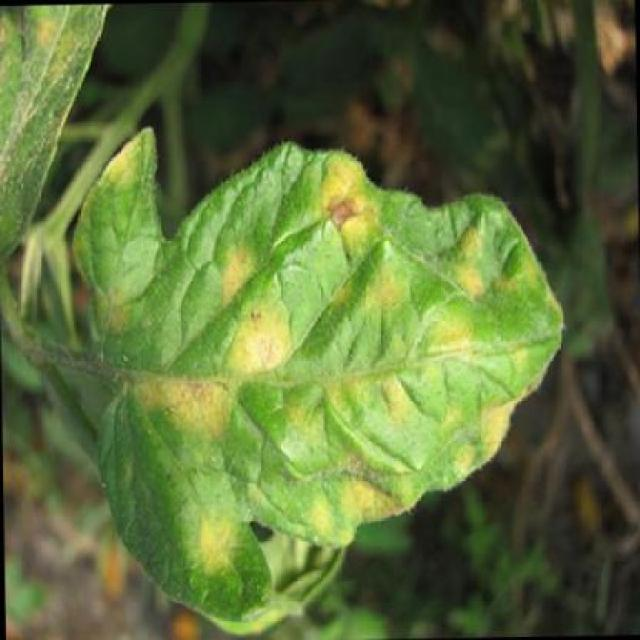Leaf Mold: (60, 112, 583, 631)
